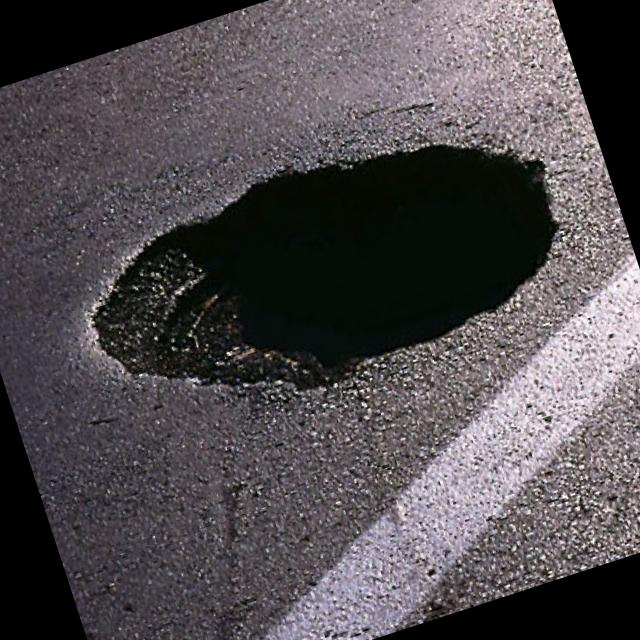Potholes: (62, 91, 606, 442)
